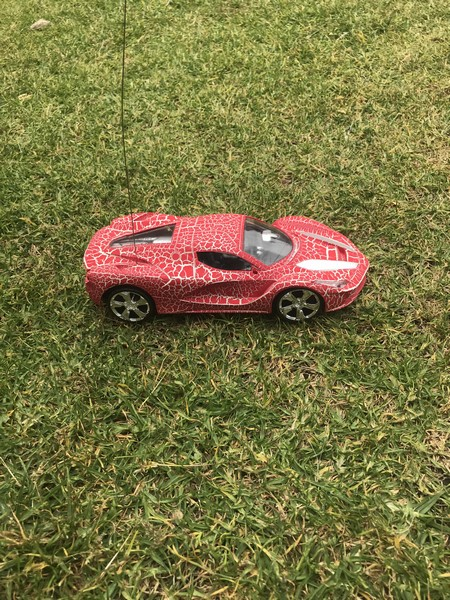RC: (80, 212, 369, 325)
